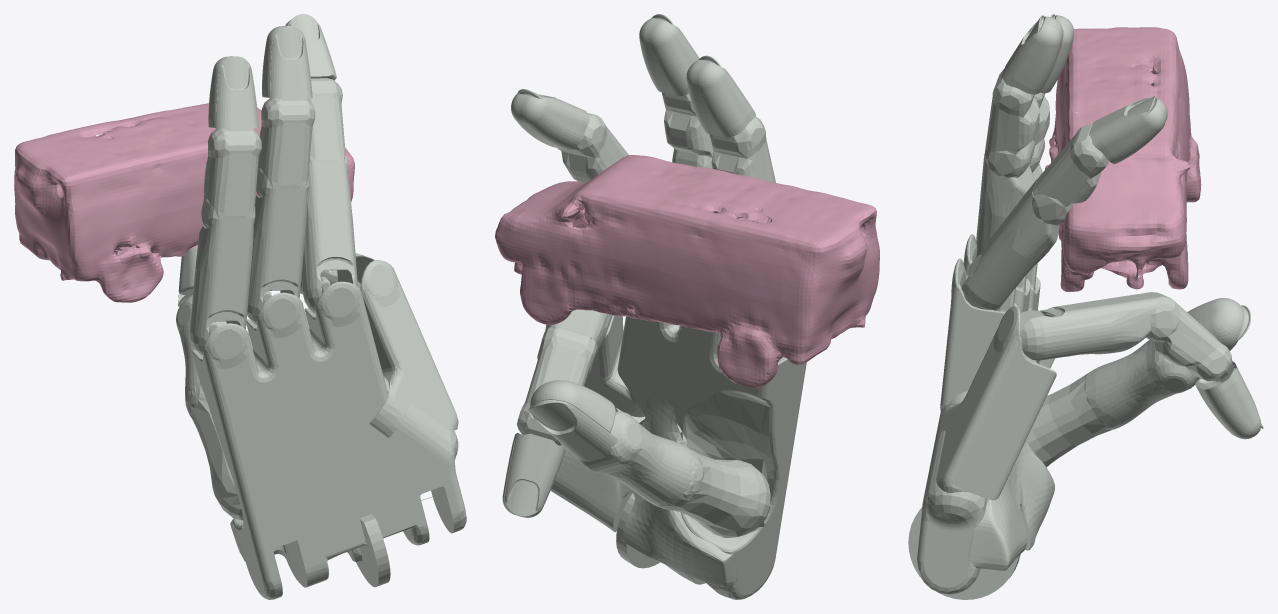
3 renders of one model, left to right at view 1: azimuth 30°, elevation 25°; view 2: azimuth 150°, elevation 25°; view 3: azimuth 270°, elevation 25°, orthographic. The views are drawn at different scales.
Parts seen in each view (by area): view 1: hand, world; view 2: hand, world; view 3: hand, world.
Part boxes in pixels (box(x1,y1,x2,y2)): hand: box(176, 14, 466, 599); world: box(14, 103, 354, 302); hand: box(502, 14, 806, 599); world: box(495, 155, 879, 388); hand: box(908, 14, 1263, 599); world: box(1045, 27, 1201, 291).
Bounding box in the file's own units: 0.146 × 0.2131 × 0.1229.
